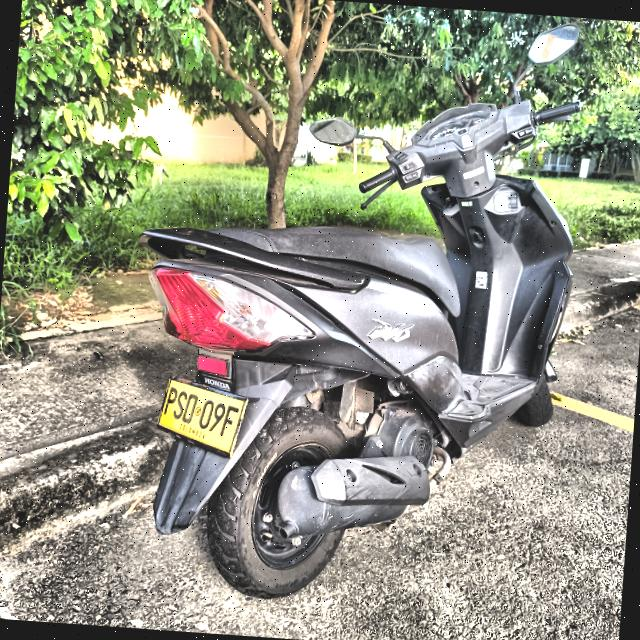plate: (159, 379, 243, 452)
